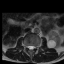CCS_normal: (30, 43, 32, 53)
LFS_normal: (34, 44, 36, 50)
LLS_normal: (32, 43, 34, 51)
RFS_normal: (25, 43, 28, 50)
RLS_normal: (28, 43, 30, 51)
